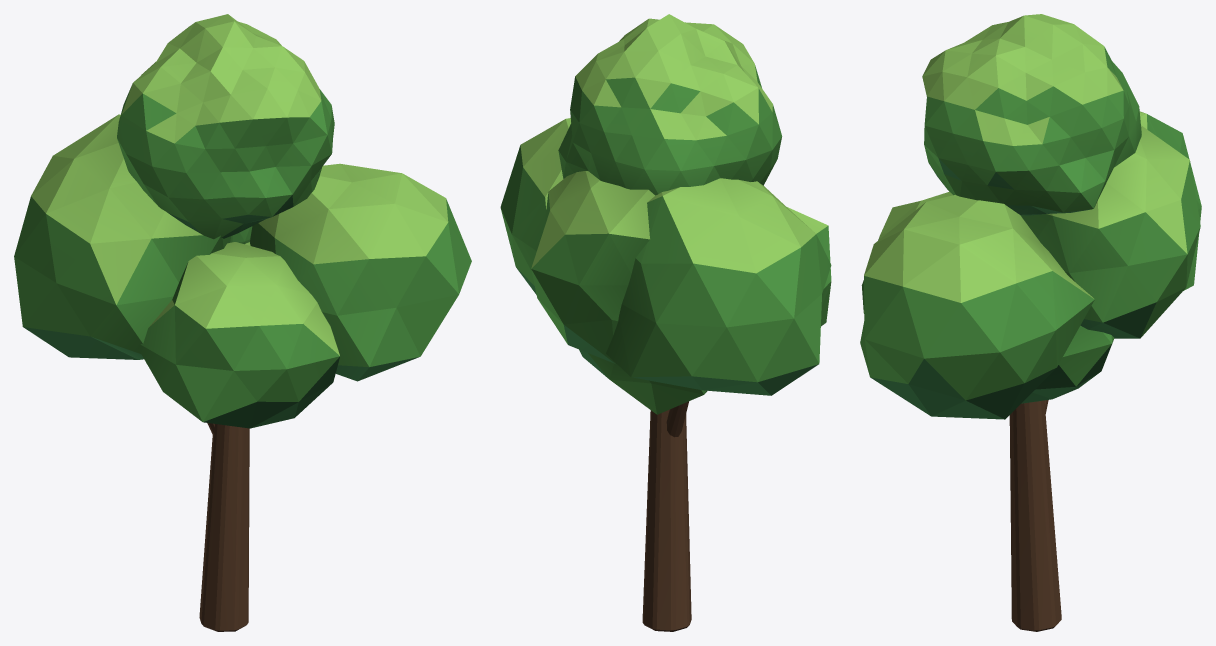
Rendered from tree_broadleaf_a_large.glb.
3 renders of one model, left to right at view 1: azimuth 30°, elevation 25°; view 2: azimuth 150°, elevation 25°; view 3: azimuth 270°, elevation 25°, orthographic.
Parts seen in each view (by area): view 1: Canopy, Trunk; view 2: Canopy, Trunk; view 3: Canopy, Trunk.
Part boxes in pixels (left/top/right/bottom): Canopy: left=14, top=14, right=471, bottom=428; Trunk: left=199, top=423, right=249, bottom=631; Canopy: left=500, top=14, right=831, bottom=414; Trunk: left=642, top=401, right=691, bottom=631; Canopy: left=860, top=14, right=1201, bottom=419; Trunk: left=1009, top=400, right=1061, bottom=631.
Bounding box in the file's own units: 9.42 × 14.78 × 7.51.
Materials: 1 (1 with a texture image).
